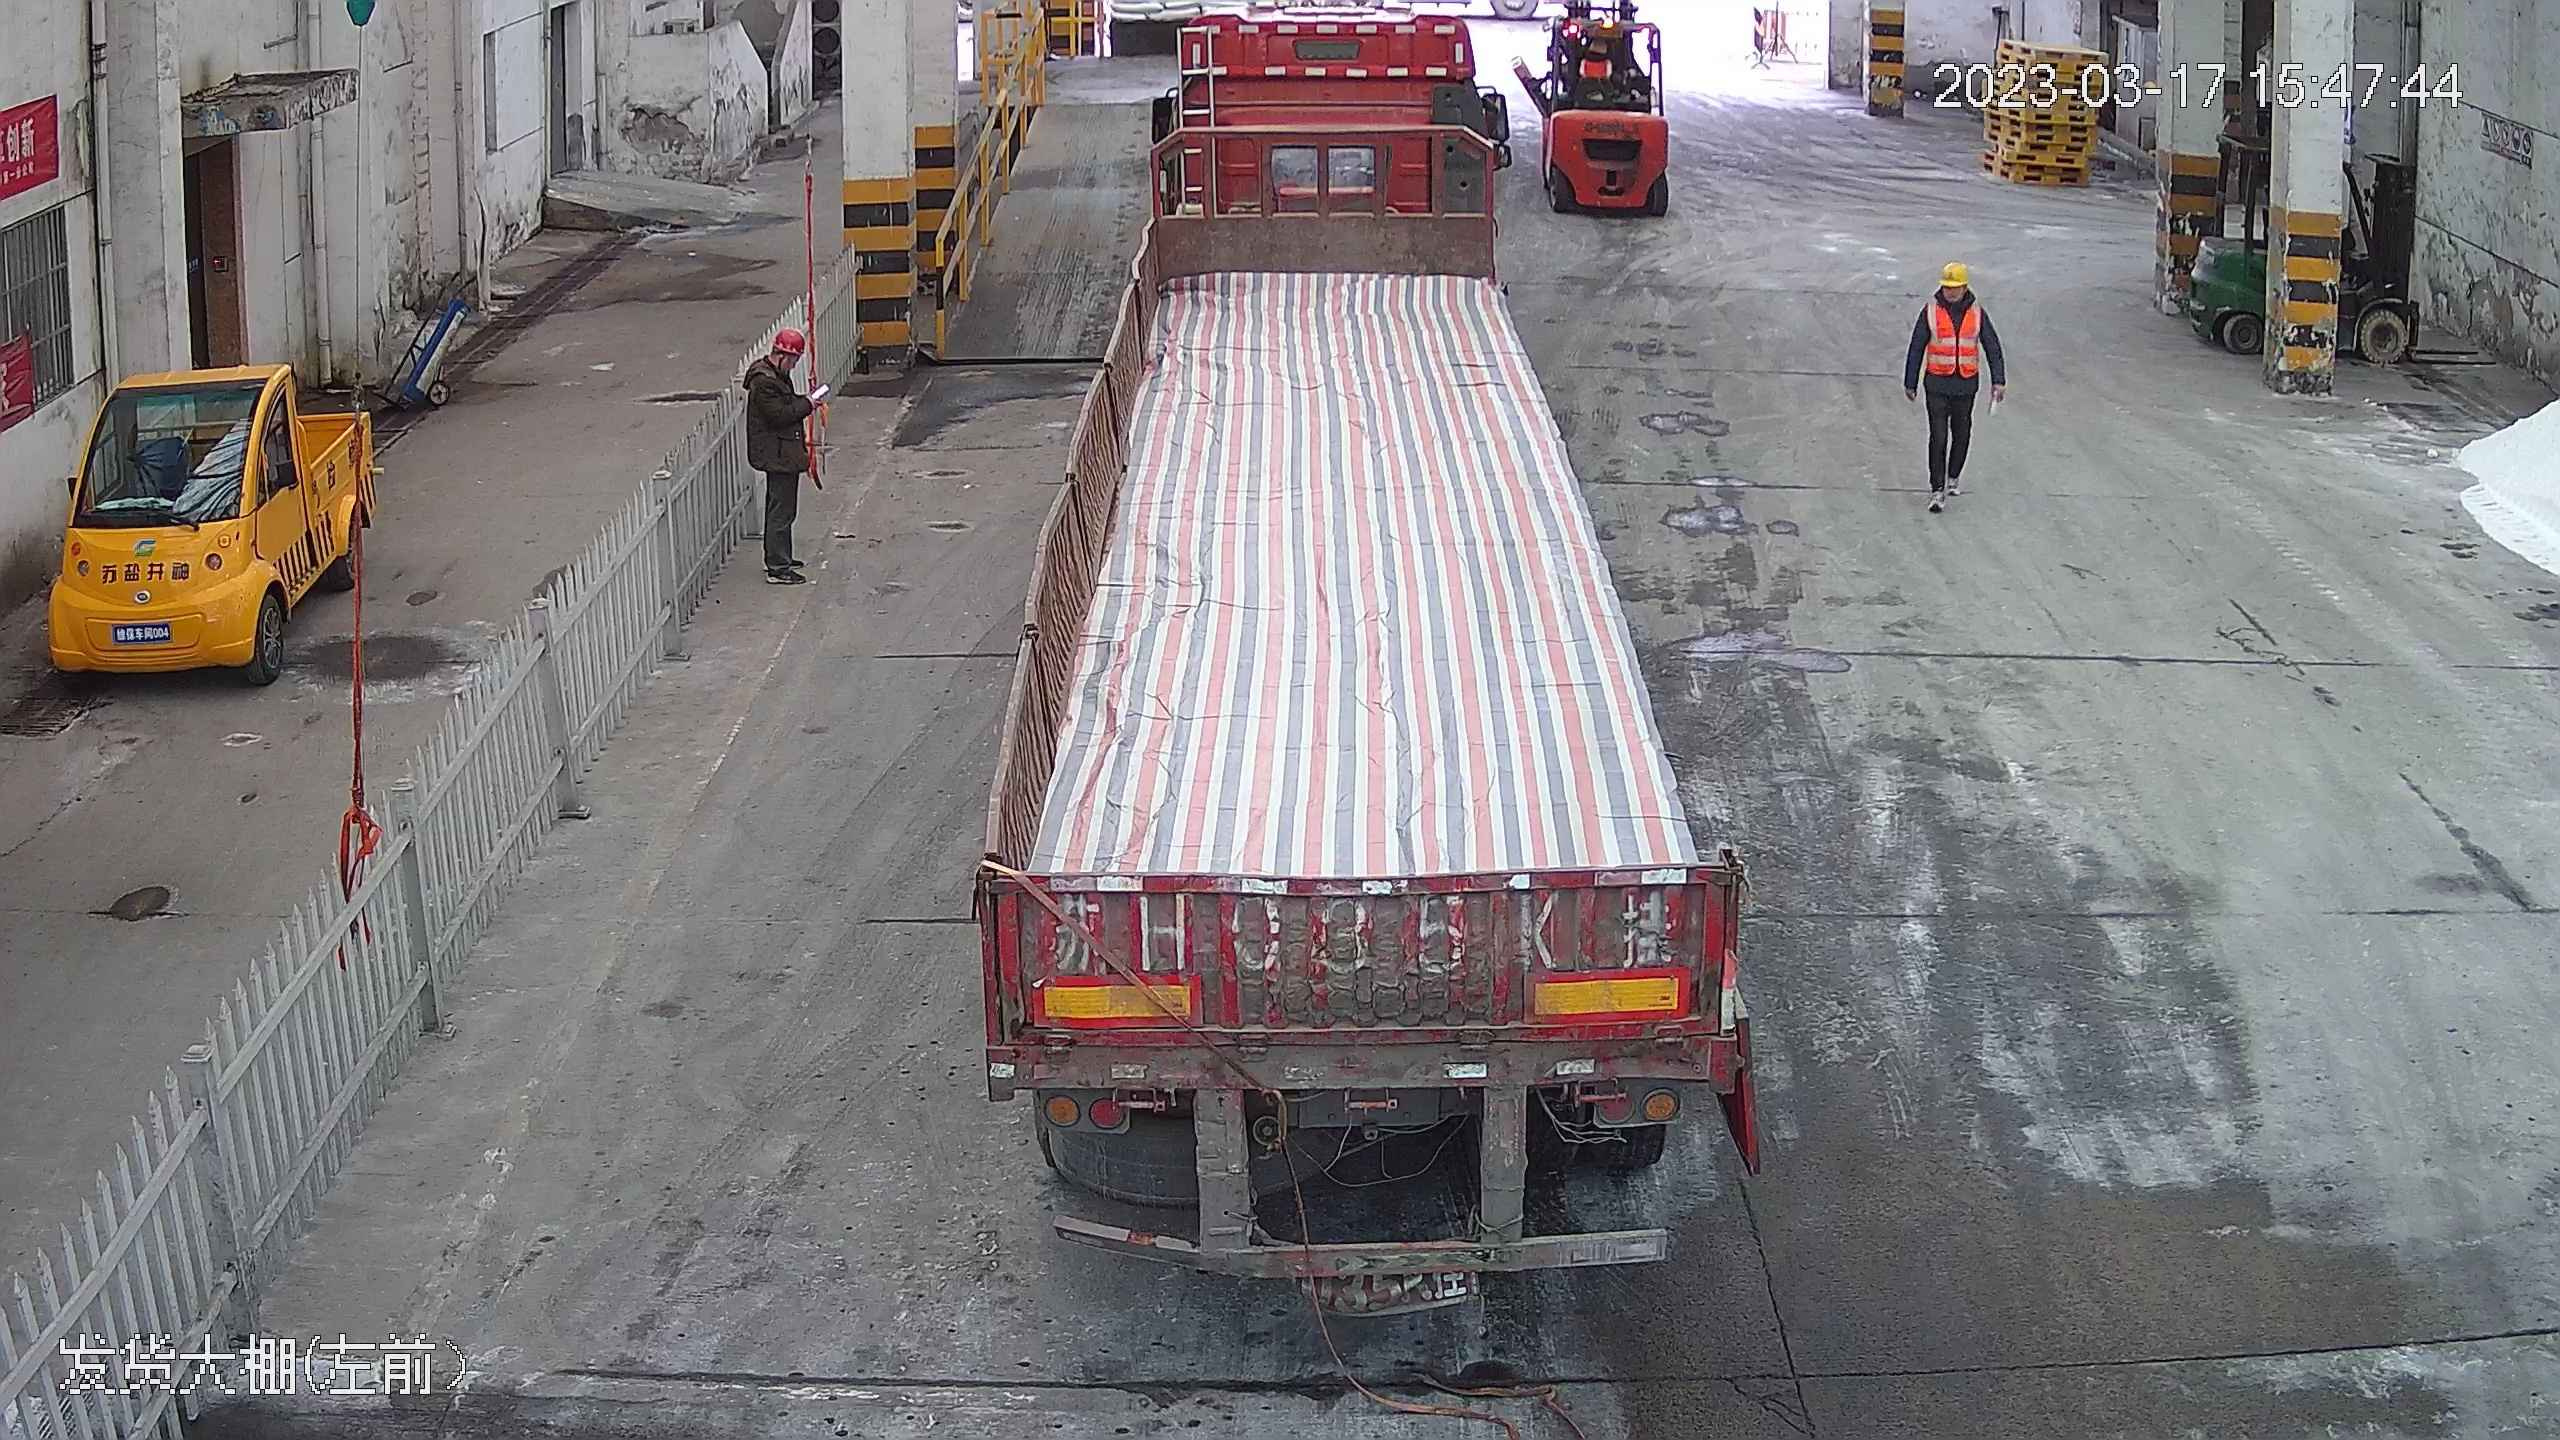head: (1915, 260, 1993, 336), (744, 314, 811, 399)
helmet: (766, 315, 804, 350), (1937, 260, 1972, 286)
people: (1901, 254, 2005, 509), (735, 312, 821, 585)
truck: (945, 0, 1764, 1257)
